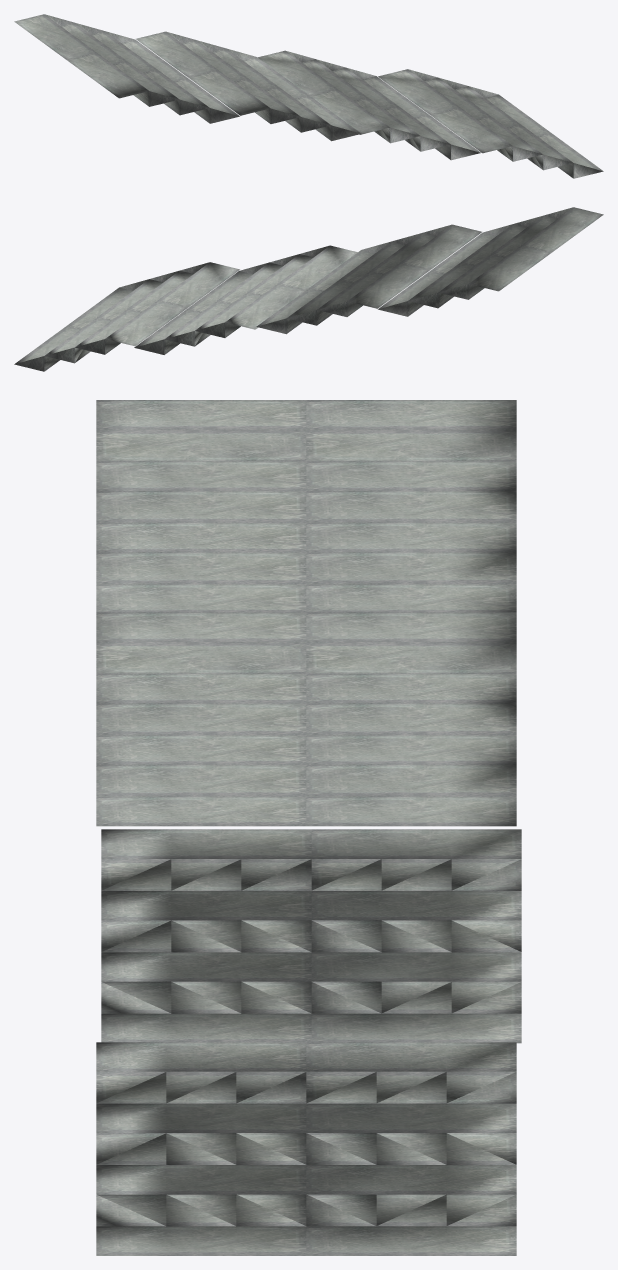
The model's file is fire_level_test_stairs.fbx.
3 views of the same model, one above another, from view 1: azimuth 30°, elevation 25°; view 2: azimuth 150°, elevation 25°; view 3: azimuth 270°, elevation 25° (orthographic). The views are drawn at different scales.
Visible parts, largest first — view 1: fire_level.004; view 2: fire_level.004; view 3: fire_level.004.
Part boxes in pixels (x1,y1,x2,y2): fire_level.004: [14, 14, 603, 178]; fire_level.004: [14, 207, 603, 371]; fire_level.004: [96, 400, 521, 1255].
Bounding box in the file's own units: 15981 × 6024 × 6073.
